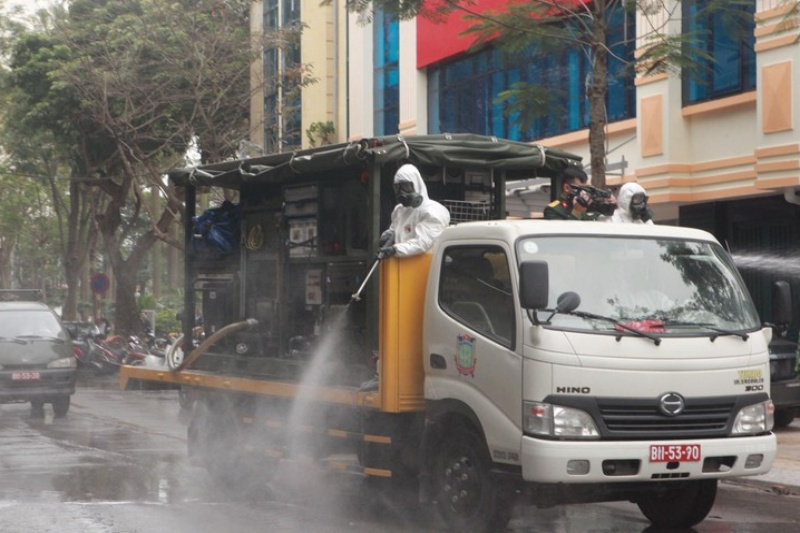plate: (650, 442, 702, 460)
